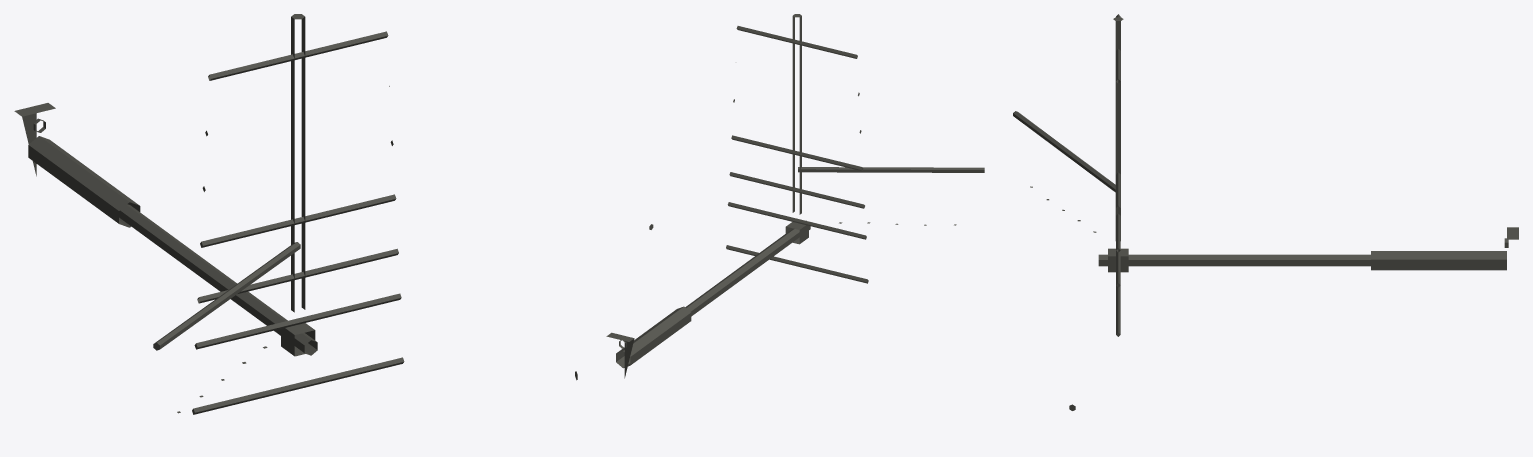
3 renders of one model, left to right at view 1: azimuth 30°, elevation 25°; view 2: azimuth 150°, elevation 25°; view 3: azimuth 270°, elevation 25°, orthographic. The views are drawn at different scales.
Size of the model in its own units: 1.35 by 1.28 by 1.71.
